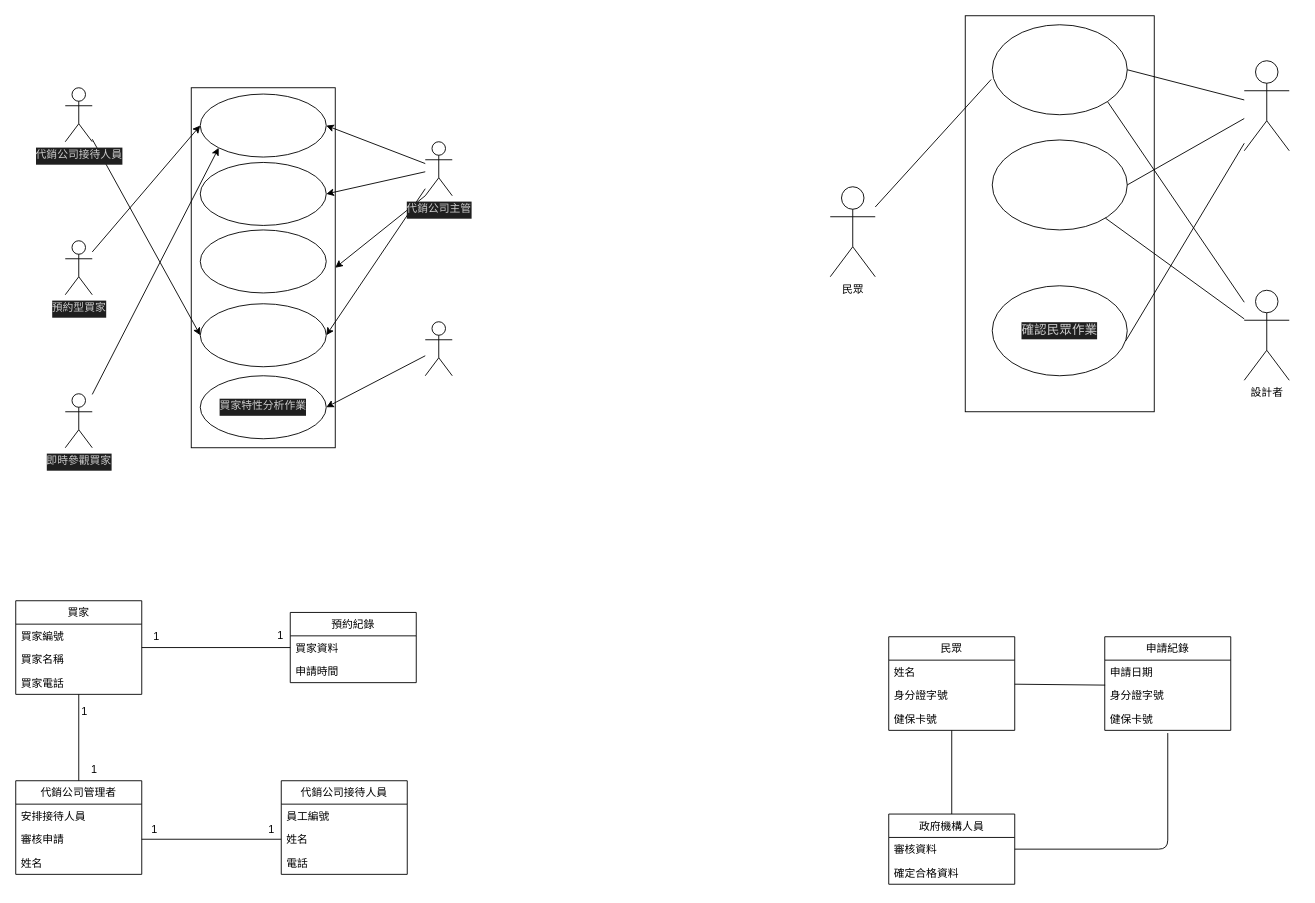
Image size: 1315x903. Some labels were removed from this diagram. The shapes that lost their labels are listed below. From the top down, each one's centre as x and y in pixels, then its label:
pixel 1059 69: 申請資料作業
pixel 262 125: 買家基本資料作業
pixel 1266 105: 政府機關人員
pixel 262 193: 審核申請紀錄
pixel 1059 184: 檢視申請資料作業
pixel 262 261: 審核管理作業
pixel 262 335: 安排銷售接待員看房子
pixel 438 348: 系統訪談人員
